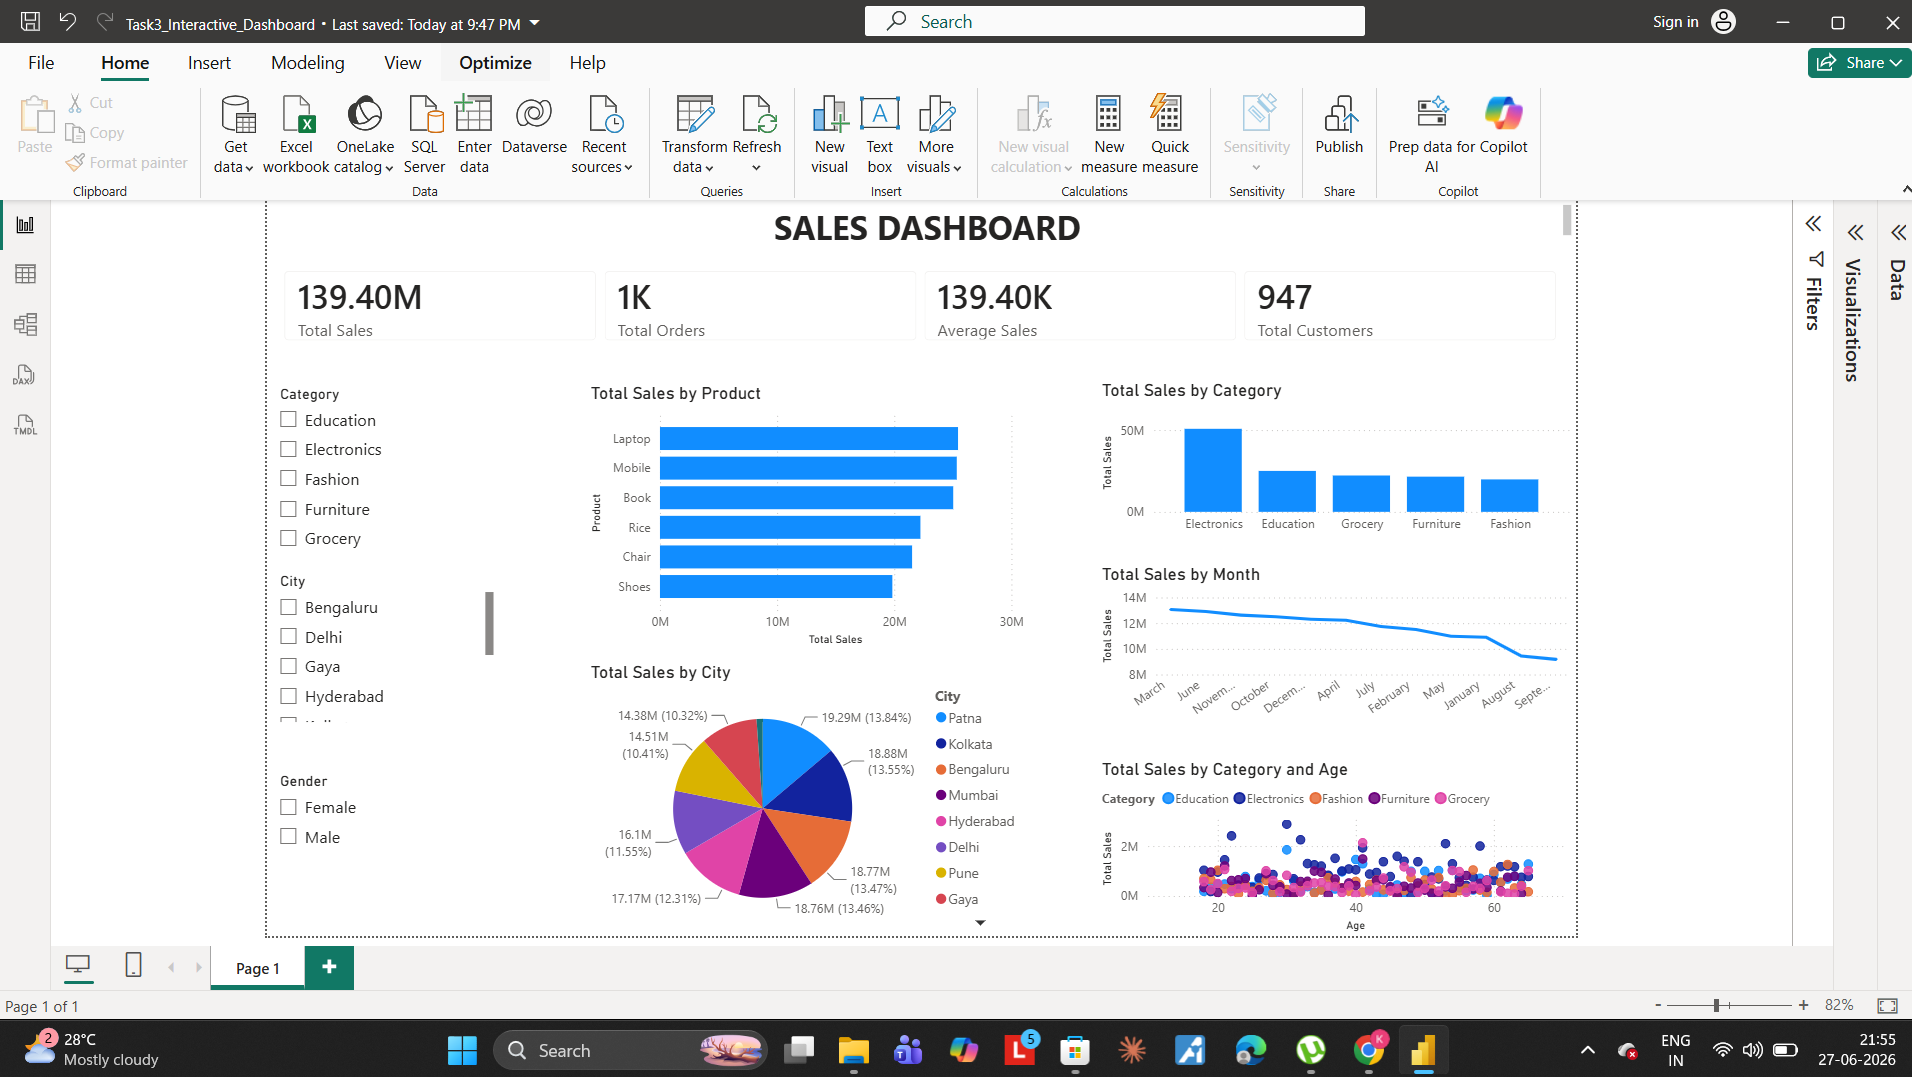

The page's visual inventory and layout, read from the dashboard file:
{"tool":"powerbi","page":{"name":"Page 1","canvas":[1280,720],"ordinal":0},"visuals":[{"type":"cardVisual","fields":{"Data":["Sheet1.Total Sales","Sheet1.Total Orders","Sheet1.Average Sales","Sheet1.Total Customers"]},"box":[0,52.1,1280.3,102.9],"z":0},{"type":"clusteredBarChart","fields":{"Category":["Sheet1.Product"],"Y":["Sheet1.Total Sales"]},"box":[311.5,178.4,433.6,262.1],"z":1000},{"type":"clusteredColumnChart","fields":{"Category":["Sheet1.Category"],"Y":["Sheet1.Total Sales"]},"box":[812.4,175.6,467.9,159.2],"z":2000},{"type":"pieChart","fields":{"Category":["Sheet1.City"],"Y":["Sheet1.Total Sales"]},"box":[311.5,451.5,433.6,269],"z":3000},{"type":"lineChart","fields":{"Category":["Sheet1.Month"],"Y":["Sheet1.Total Sales"]},"box":[812.4,355.4,467.9,160.5],"z":4000},{"type":"scatterChart","fields":{"X":["Sheet1.Age"],"Y":["Sheet1.Total Sales"],"Series":["Sheet1.Category"]},"box":[812.4,546.1,467.9,174.3],"z":5000},{"type":"slicer","fields":{"Values":["Sheet1.Category"]},"box":[0,175.6,226.4,183.9],"z":6000},{"type":"slicer","fields":{"Values":["Sheet1.City"]},"box":[0,359.5,226.4,156.4],"z":7000},{"type":"slicer","fields":{"Values":["Sheet1.Gender"]},"box":[0,555.7,226.4,164.7],"z":8000},{"type":"textbox","box":[17.8,0,1262.4,52.1],"z":9000}]}

Visuals, with their boxes on the page's 1280x720 design canvas (x1, y1, x2, y2). These are canvas units, not pixel positions in the 1912x1077 screenshot, which may show the page scaled, cropped or inside an application window:
cardVisual - Sheet1.Total Sales x Sheet1.Total Orders: l=0, t=52, r=1280, b=155
clusteredBarChart - Sheet1.Product x Sheet1.Total Sales: l=312, t=178, r=745, b=440
clusteredColumnChart - Sheet1.Category x Sheet1.Total Sales: l=812, t=176, r=1280, b=335
pieChart - Sheet1.City x Sheet1.Total Sales: l=312, t=452, r=745, b=720
lineChart - Sheet1.Month x Sheet1.Total Sales: l=812, t=355, r=1280, b=516
scatterChart - Sheet1.Age x Sheet1.Total Sales: l=812, t=546, r=1280, b=720
slicer - Sheet1.Category: l=0, t=176, r=226, b=360
slicer - Sheet1.City: l=0, t=360, r=226, b=516
slicer - Sheet1.Gender: l=0, t=556, r=226, b=720
textbox: l=18, t=0, r=1280, b=52
